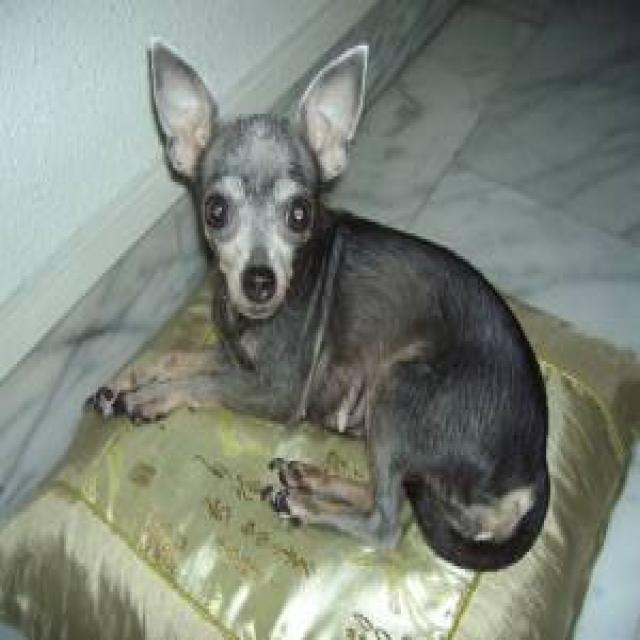dog-chihuahua: (98, 26, 559, 577)
